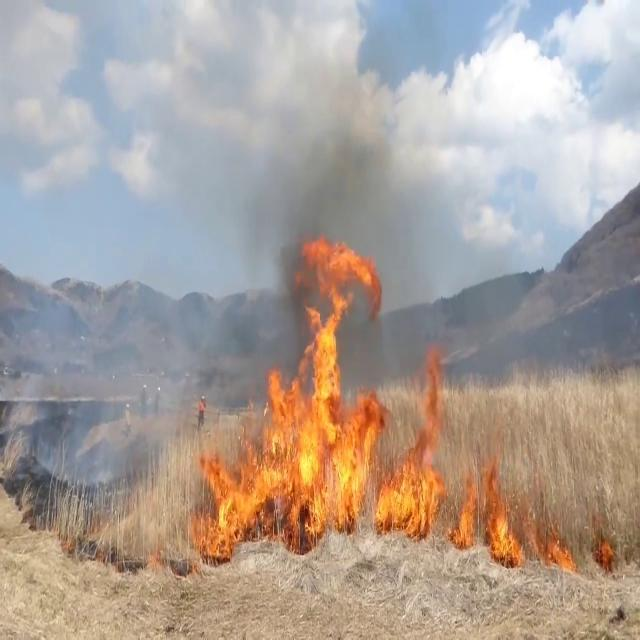Fire: (195, 220, 460, 547), (458, 466, 578, 572)
Smoke: (0, 220, 189, 504), (242, 76, 432, 282)
